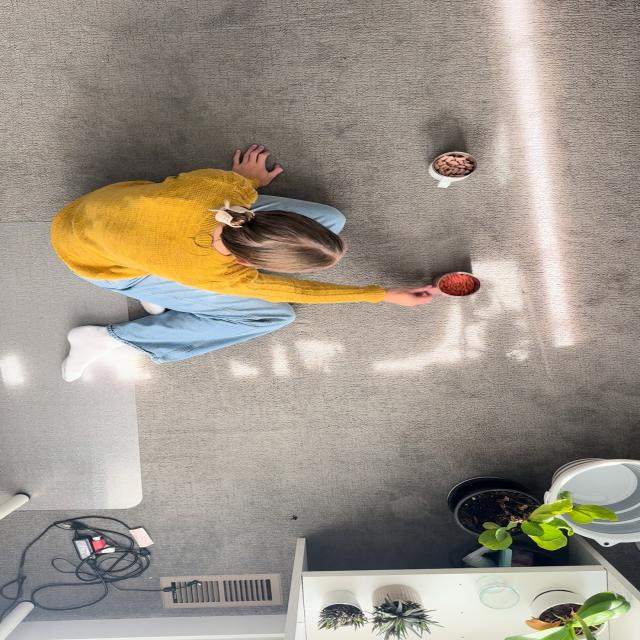IBC: (430, 152, 476, 188), (433, 272, 480, 296)
